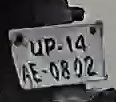0: (48, 62, 62, 82), (71, 59, 85, 78)
1: (64, 37, 74, 54)
2: (83, 55, 100, 78)
4: (76, 33, 87, 53)
8: (59, 60, 71, 81)
A: (21, 65, 31, 84)
E: (28, 62, 42, 83)
P: (43, 36, 56, 60)
U: (28, 39, 45, 58)
